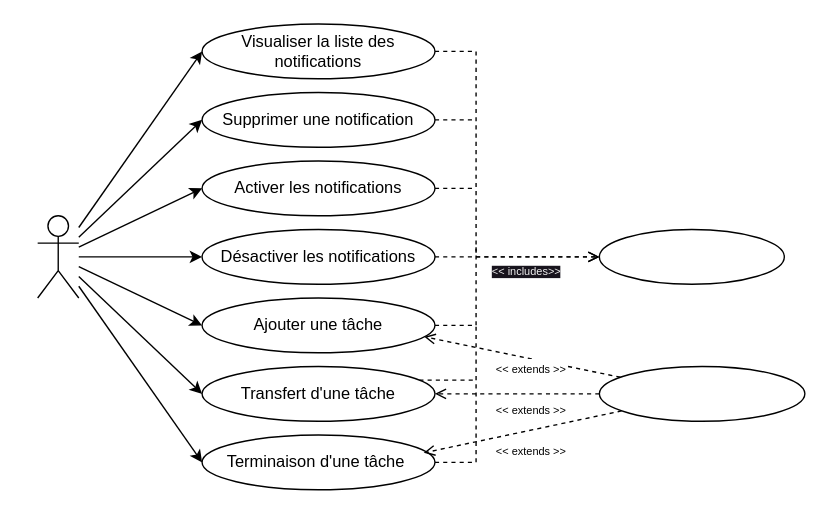
This 829x514 diagram has some shape labels left out. The centre of each missing label's shape, as x and y in pixels:
Envoyer une notification: the point at 701,393
S'authentifier: the point at 691,256
utilisateur: the point at 57,256
